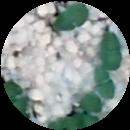Basil: (2, 78, 34, 116), (78, 93, 105, 130), (55, 4, 88, 31), (101, 31, 120, 67), (96, 67, 116, 100)
